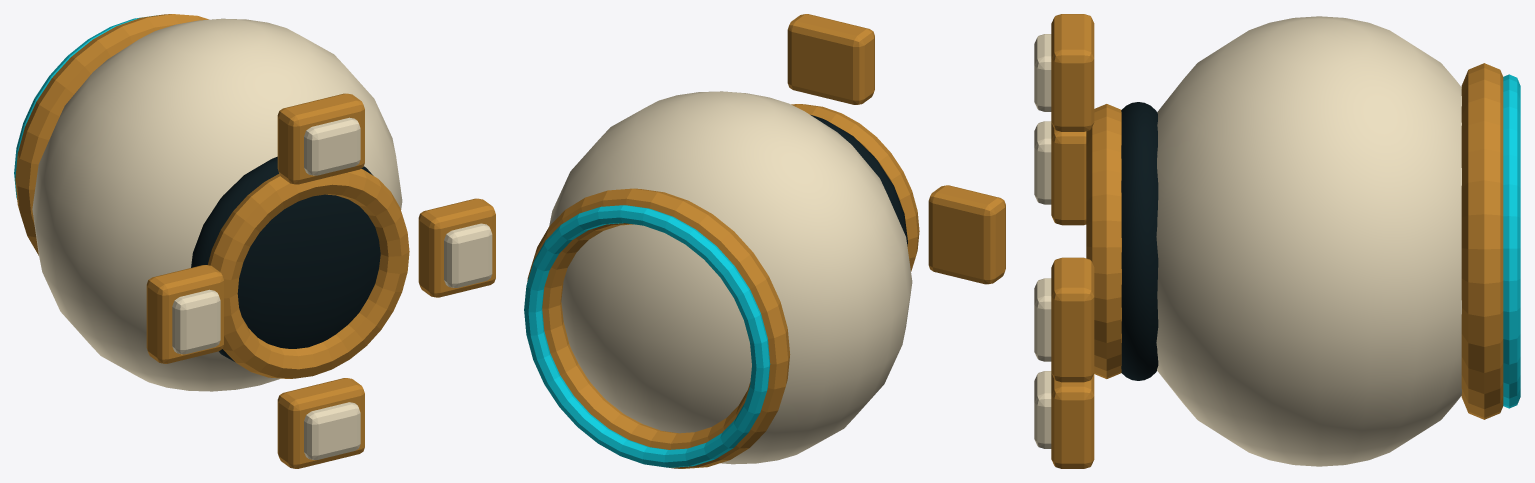
File: FearWormHead_3.obj
3 views of the same model, side by side, from view 1: azimuth 30°, elevation 25°; view 2: azimuth 150°, elevation 25°; view 3: azimuth 270°, elevation 25° (orthographic). The views are drawn at different scales.
Visible parts, largest first — view 1: Armoured_head; view 2: Armoured_head; view 3: Armoured_head.
Boxes of the visible parts, x1,y1,x2,y2 form: Armoured_head: [14, 14, 495, 468]; Armoured_head: [524, 14, 1005, 468]; Armoured_head: [1034, 14, 1520, 468].
Size of the model in its own units: 2.05 by 2.05 by 2.15.
1 material, 1 textured.
